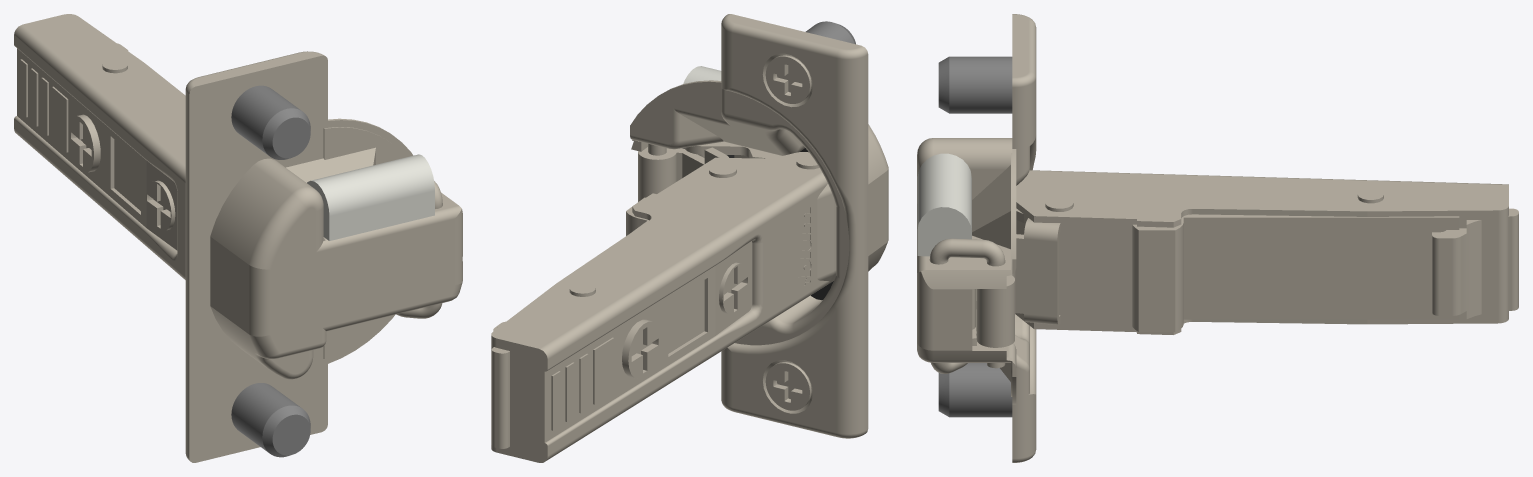
3 views of the same model, side by side, from view 1: azimuth 30°, elevation 25°; view 2: azimuth 150°, elevation 25°; view 3: azimuth 270°, elevation 25° (orthographic). The views are drawn at different scales.
Visible parts, largest first — view 1: bau2460033743-1, bau2460567541-1, bau0059100308-1, bau0059100308-2; view 2: bau2460567541-1, bau2460033743-1, bau2460027380-1, bau0059100308-1, bau0019426112-1, bau0059100308-2, bau2460023250-1; view 3: bau0019426112-1, bau2460567541-1, bau2460033743-1, bau2460027380-1, bau0059100308-1, bau0059100308-2.
Boxes of the visible parts, box(x1,y1,x2,y2) form: bau2460033743-1: box(185, 51, 462, 462); bau2460567541-1: box(14, 14, 185, 279); bau0059100308-1: box(231, 85, 310, 159); bau0059100308-2: box(231, 383, 310, 457); bau2460567541-1: box(491, 152, 836, 462); bau2460033743-1: box(630, 14, 888, 438); bau2460027380-1: box(638, 147, 728, 201); bau0059100308-1: box(765, 21, 855, 103); bau0019426112-1: box(491, 197, 648, 448); bau0059100308-2: box(765, 362, 811, 410); bau2460023250-1: box(684, 141, 781, 158); bau0019426112-1: box(1132, 208, 1518, 332); bau2460567541-1: box(1015, 170, 1508, 334); bau2460033743-1: box(917, 14, 1036, 462); bau2460027380-1: box(976, 208, 1060, 347); bau0059100308-1: box(938, 56, 1012, 113); bau0059100308-2: box(938, 363, 1012, 417).
Bounding box in the file's own units: 36.9 × 57 × 80.8.
